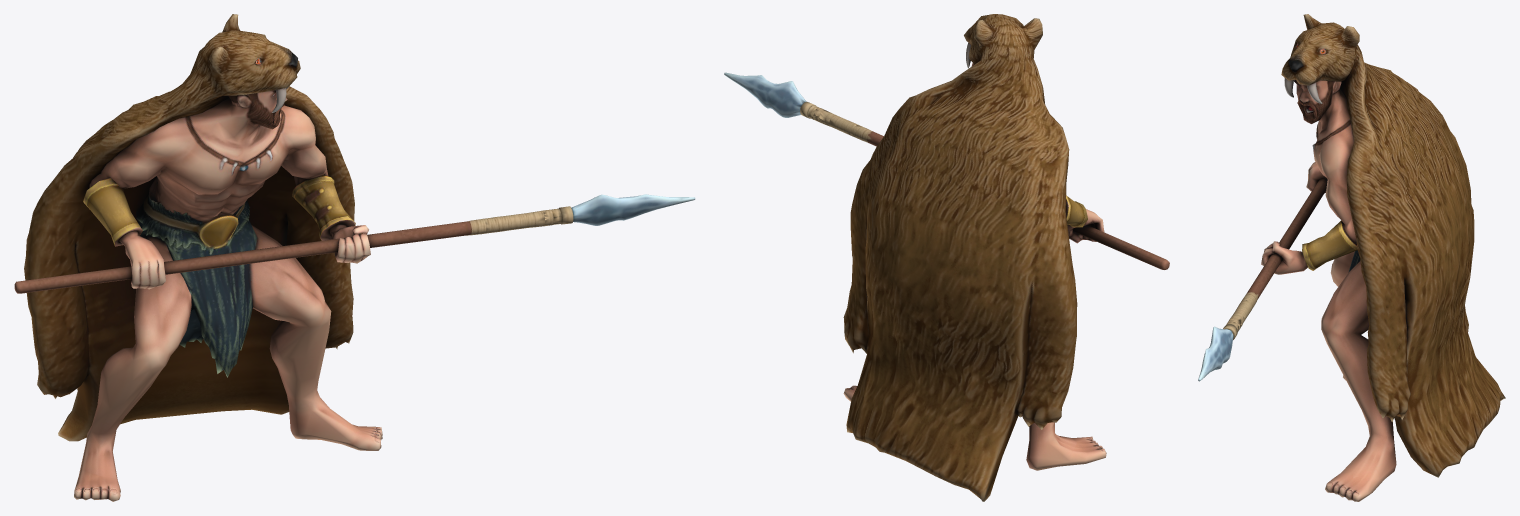
File: MZ4250 - Tribal Warrior Male 01.glb
3 views of the same model, side by side, from view 1: azimuth 30°, elevation 25°; view 2: azimuth 150°, elevation 25°; view 3: azimuth 270°, elevation 25° (orthographic). The views are drawn at different scales.
Parts seen in each view (by area): view 1: body_high.002, pelt_high.002, spear_high.002; view 2: pelt_high.002, spear_high.002, body_high.002; view 3: pelt_high.002, body_high.002, spear_high.002.
Part boxes in pixels (bbox=[...]): body_high.002: bbox=[74, 90, 382, 501]; pelt_high.002: bbox=[24, 14, 354, 441]; spear_high.002: bbox=[14, 194, 695, 293]; pelt_high.002: bbox=[843, 14, 1077, 501]; spear_high.002: bbox=[724, 72, 1169, 269]; body_high.002: bbox=[843, 63, 1106, 470]; pelt_high.002: bbox=[1281, 14, 1505, 477]; body_high.002: bbox=[1261, 80, 1396, 501]; spear_high.002: bbox=[1198, 178, 1327, 381].
Size of the model in its own units: 7.81 by 5.83 by 3.95.
Materials: 1 (1 with a texture image).
